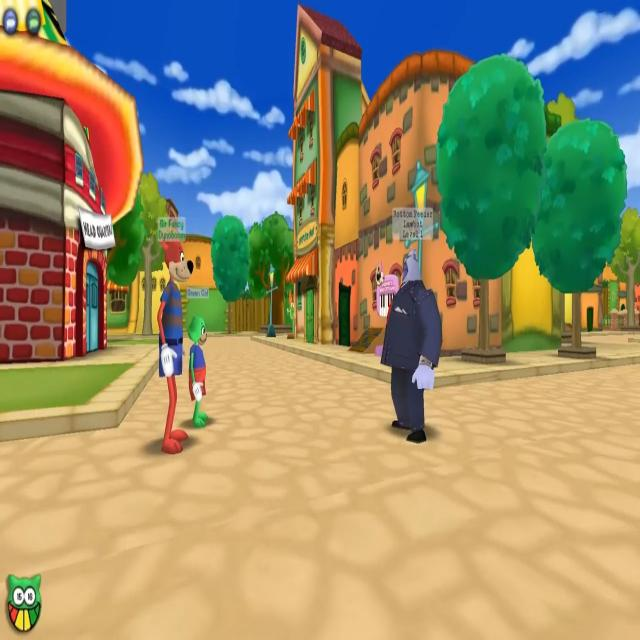bottomfeeder: (375, 205, 442, 439)
